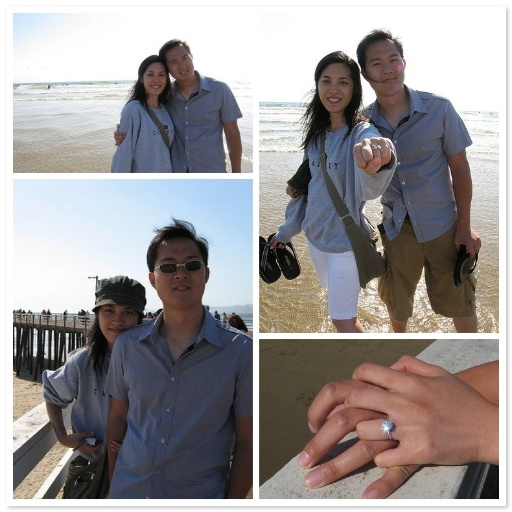hand: (294, 380, 425, 499), (351, 135, 392, 176), (452, 227, 482, 263), (63, 430, 103, 456), (112, 124, 129, 147), (110, 439, 124, 457)
